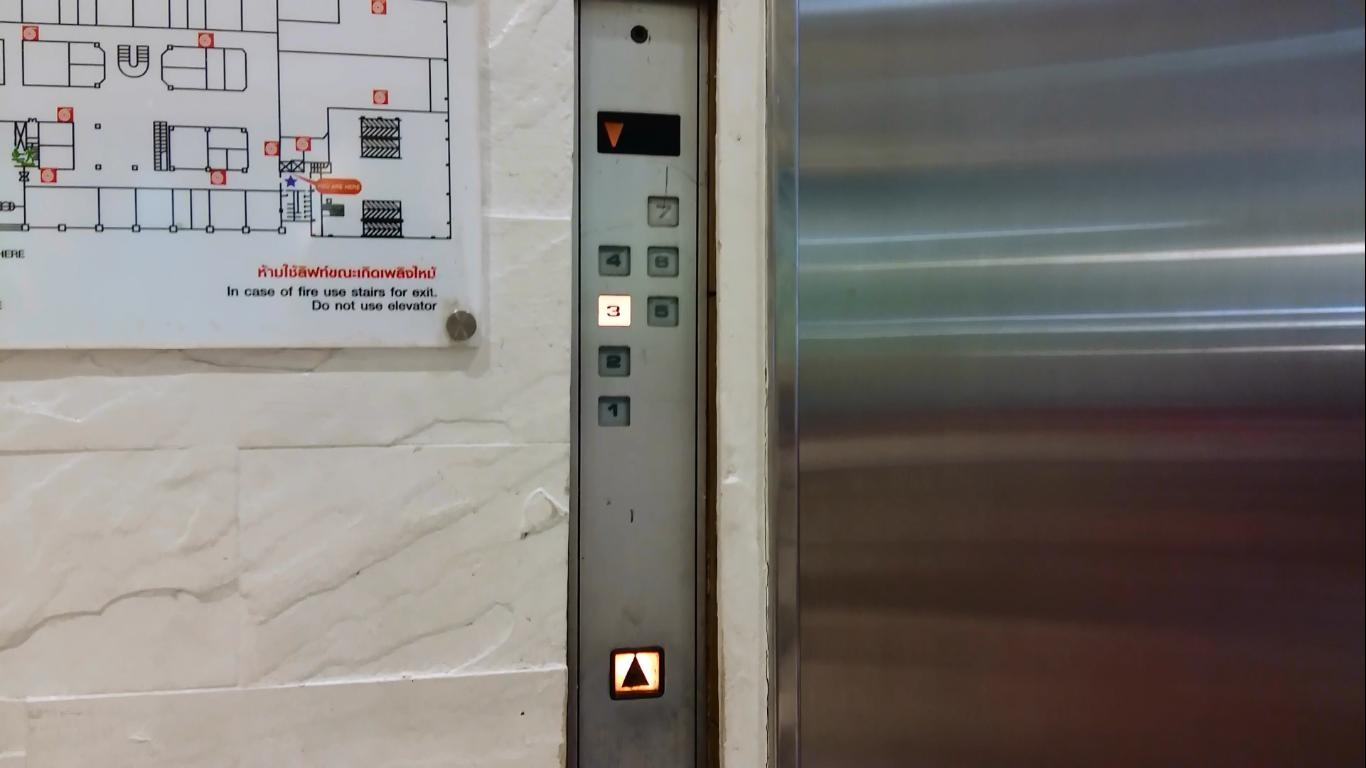1: (594, 392, 633, 428)
2: (595, 342, 632, 379)
3: (596, 291, 633, 328)
4: (596, 242, 633, 278)
5: (645, 293, 680, 330)
6: (644, 242, 681, 279)
7: (645, 193, 682, 230)
led: (596, 110, 684, 157)
up: (610, 645, 664, 700)
